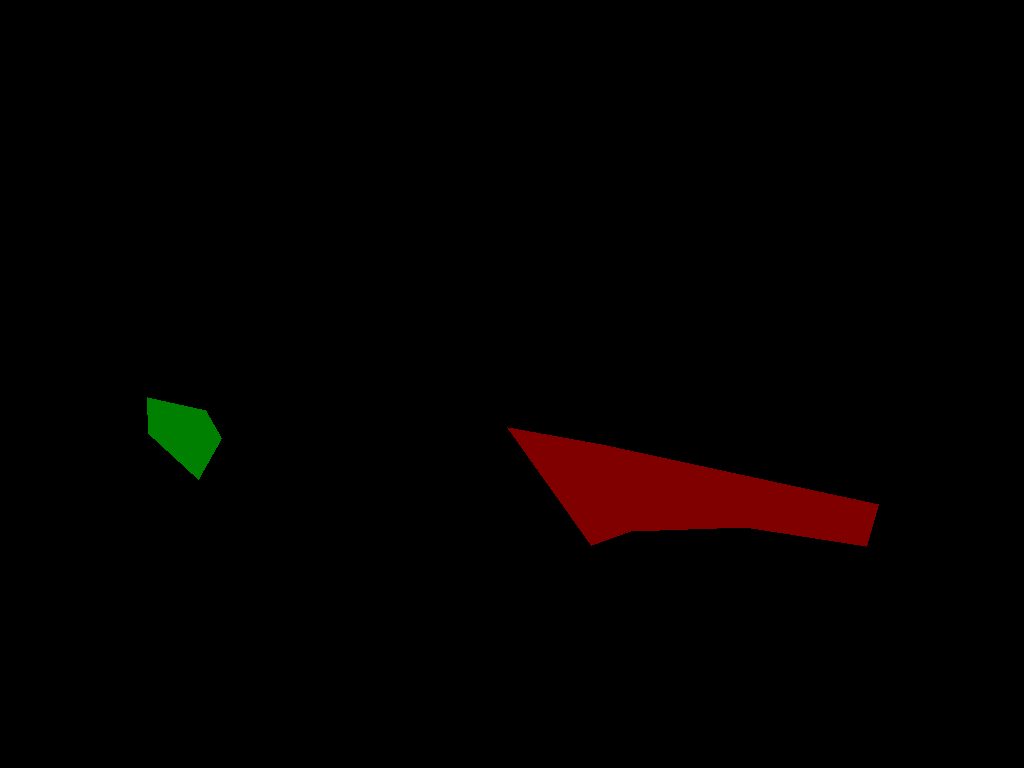fire: (507, 427, 878, 546), (147, 397, 221, 479)
